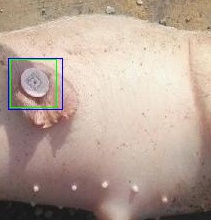text: (10, 59, 56, 107)
